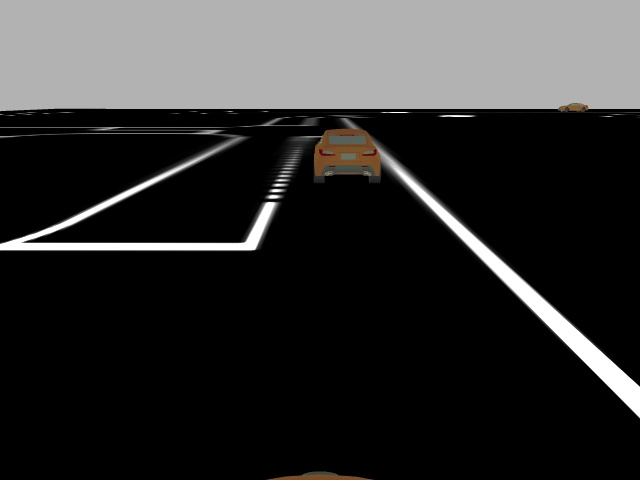obstacle_car: (310, 127, 383, 185)
